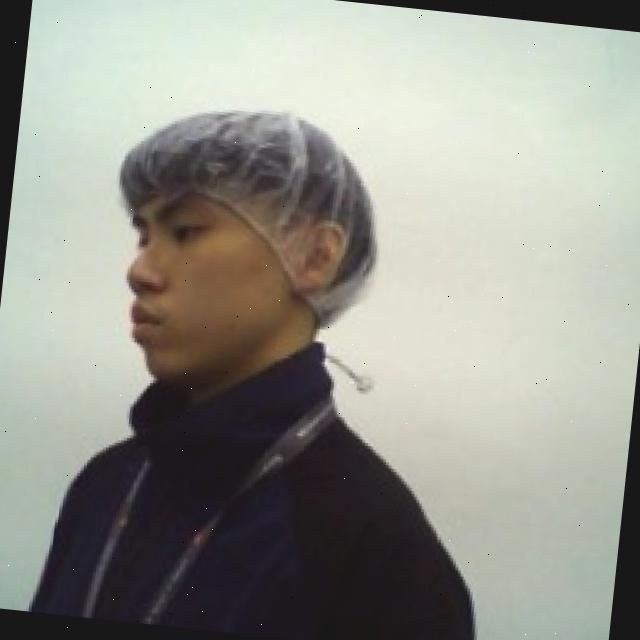gloves: (98, 88, 393, 338)
no_hairnet: (110, 199, 360, 418)
